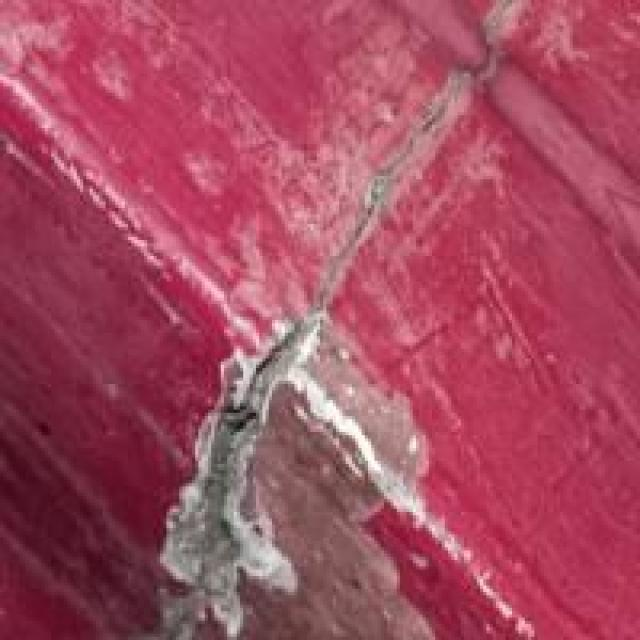Crack: (150, 102, 413, 637)
